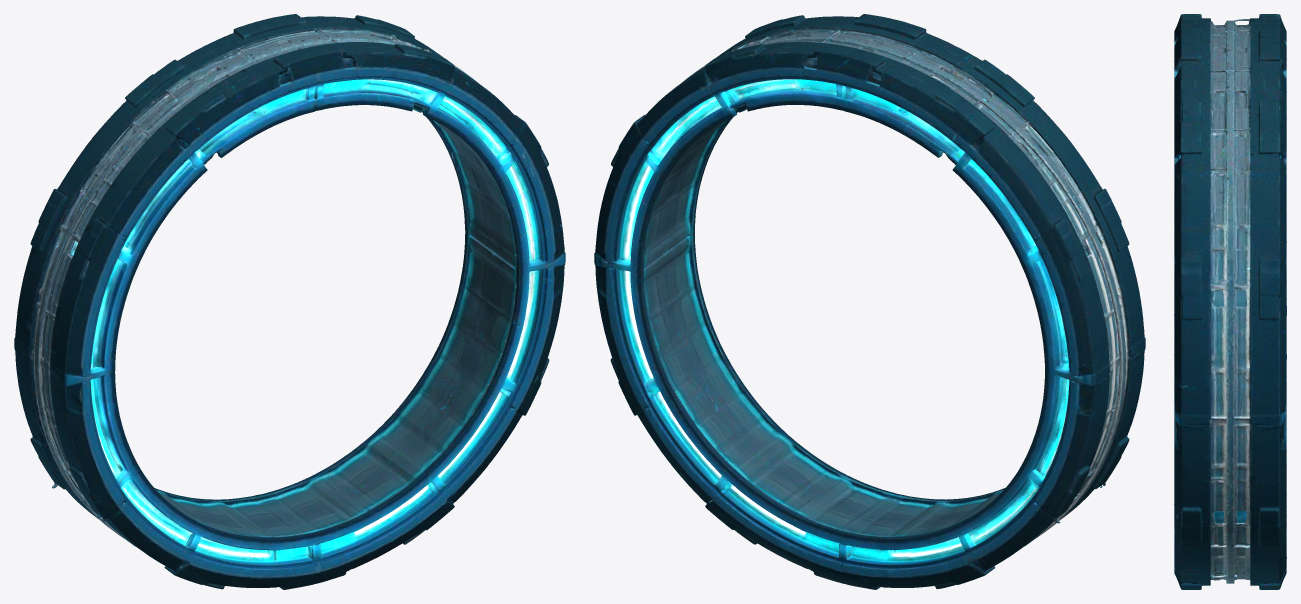
The model's file is city_canopy_ring_draco.glb.
The picture shows the model from 3 angles, left to right: view 1: azimuth 30°, elevation 25°; view 2: azimuth 150°, elevation 25°; view 3: azimuth 270°, elevation 25°; orthographic projection.
Size of the model in its own units: 1.9 by 1.89 by 0.3702.
Materials: 1 (1 with a texture image).
